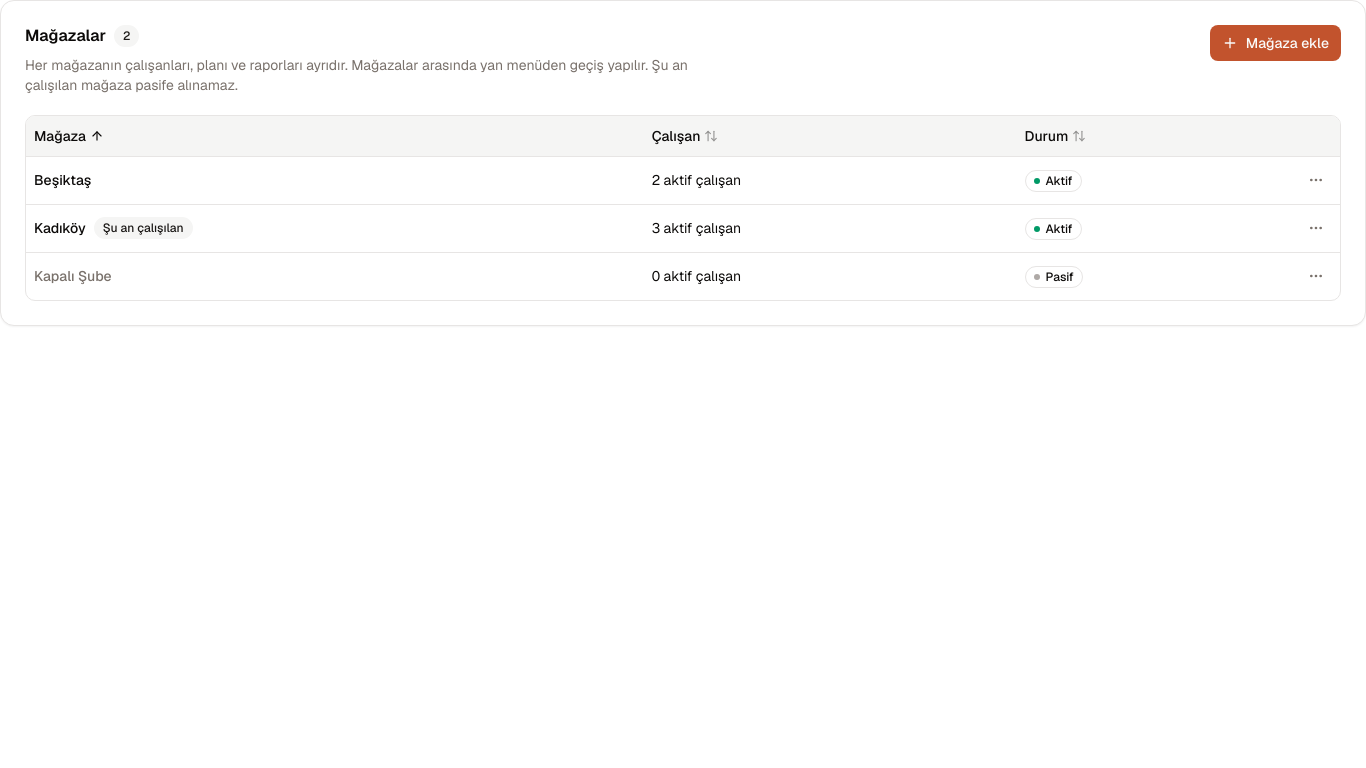
Test case: StoresPanel › aynı ad hatasını (409) diyalogda gösterir
Expected: the text "Beşiktaş" is shown, left=34, top=170, right=91, bottom=190
Click the button "Mağaza ekle" at (1275, 43), box left=1210, top=25, right=1341, bottom=61
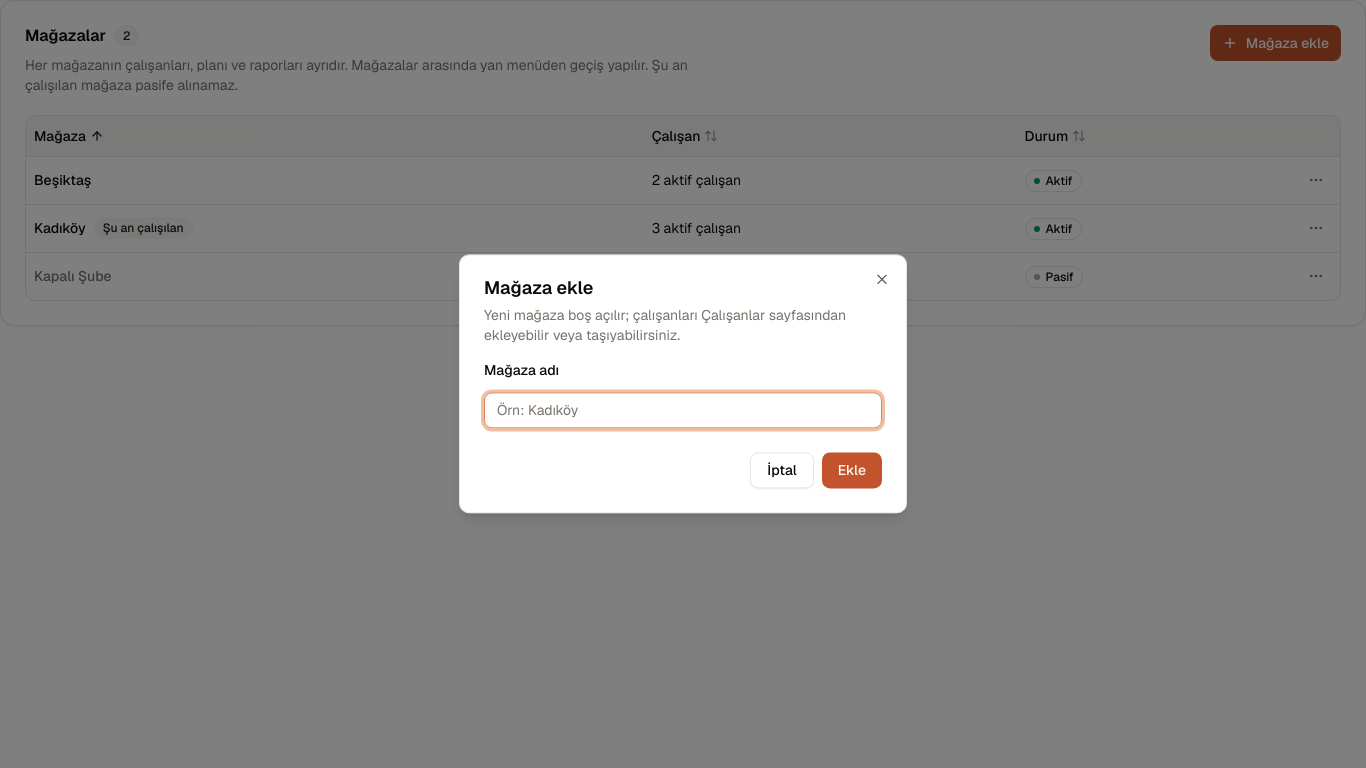
Type "Beşiktaş" into the field labelled "Mağaza adı" at (683, 411), box left=484, top=393, right=882, bottom=429
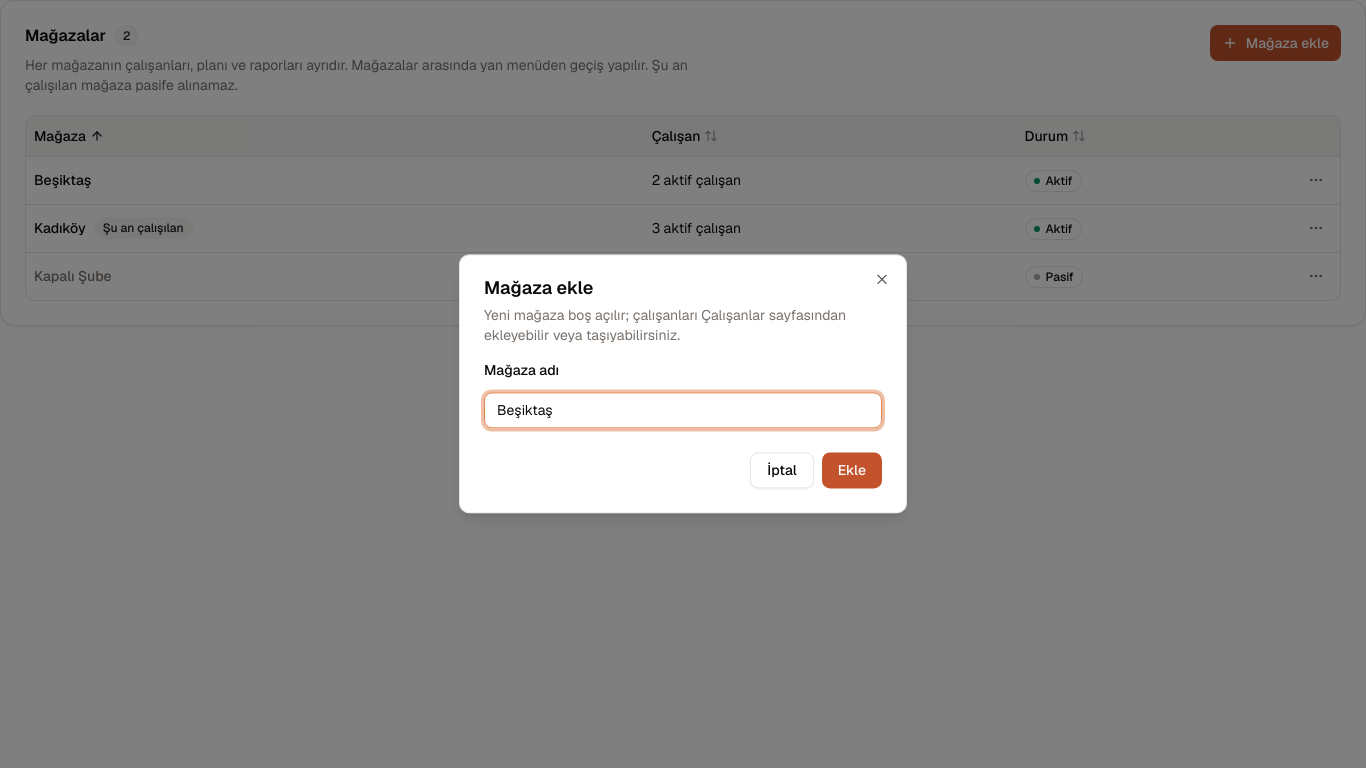
Click the button "Ekle" at (852, 471), box left=822, top=453, right=882, bottom=489
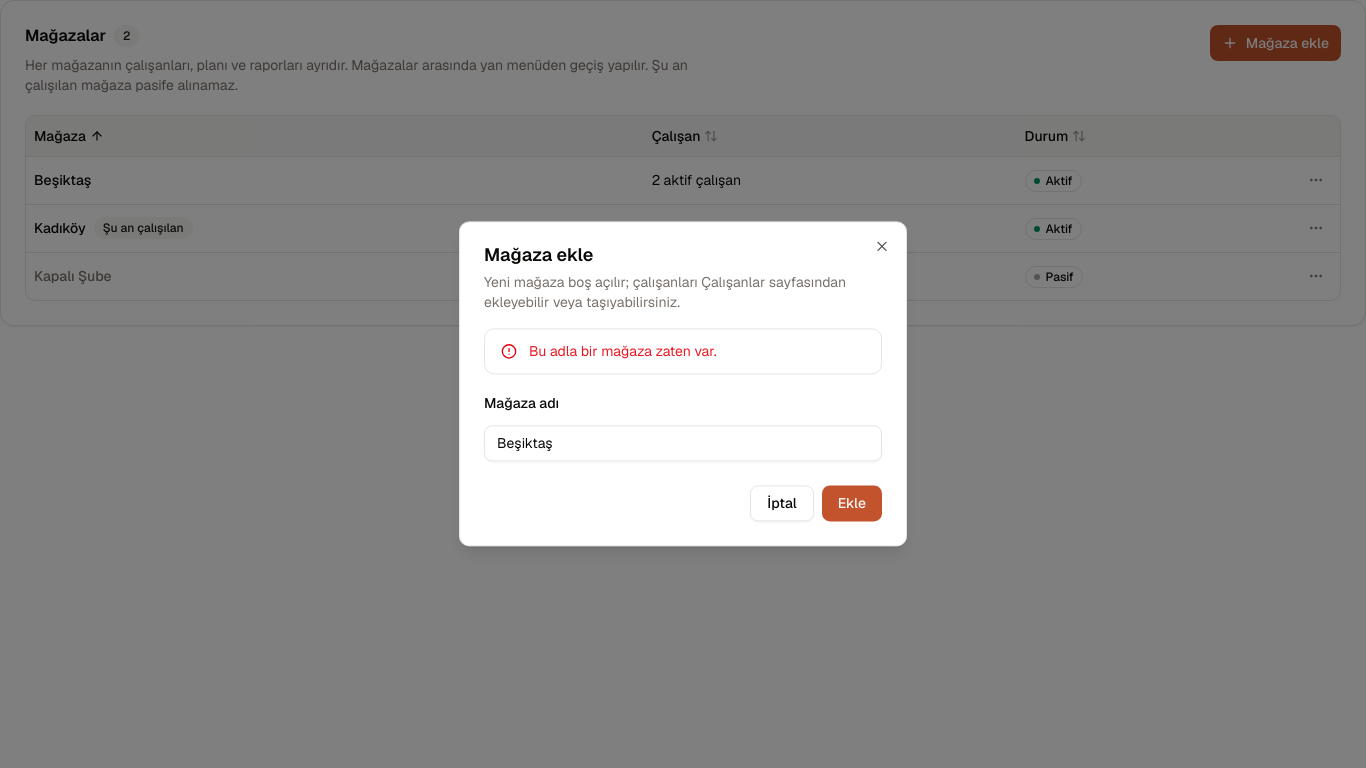
Expected: the text "Bu adla bir mağaza zaten var." is shown, left=529, top=342, right=716, bottom=360
